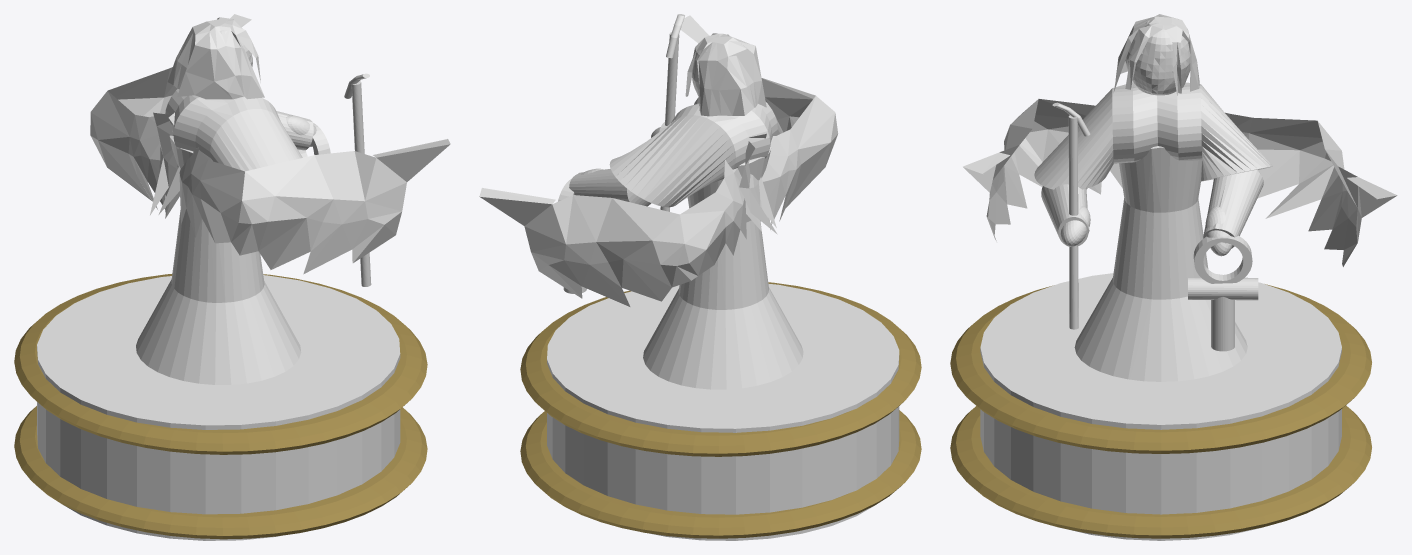
File: Isis.dae
3 views of the same model, side by side, from view 1: azimuth 30°, elevation 25°; view 2: azimuth 150°, elevation 25°; view 3: azimuth 270°, elevation 25° (orthographic). The views are drawn at different scales.
Parts seen in each view (by area): view 1: Cylinder, Grid.002, Cone.001, Torus.001, Torus, Grid.001, Cylinder.001, Grid, Cylinder.004, Cylinder.002; view 2: Cylinder, Grid.001, Cone.001, Torus.001, Torus, Cylinder.001, Grid.002, Grid, Cylinder.002, Cylinder.004; view 3: Cylinder, Cone.001, Torus.001, Torus, Cylinder.001, Grid.001, Grid.002, Cylinder.002, Sphere, Grid, Cylinder.004, Cylinder.003 (+3 smaller).
Boxes of the visible parts, box(x1,y1,x2,y2) form: Cylinder: box(37, 275, 400, 540); Grid.002: box(150, 112, 450, 274); Cone.001: box(136, 135, 301, 384); Torus.001: box(14, 274, 427, 454); Torus: box(14, 406, 427, 539); Grid.001: box(90, 14, 251, 214); Cylinder.001: box(165, 89, 302, 171); Grid: box(167, 17, 264, 99); Cylinder.004: box(344, 73, 371, 286); Cylinder.002: box(276, 111, 316, 150); Cylinder: box(547, 283, 899, 540); Grid.001: box(479, 133, 776, 306); Cone.001: box(643, 147, 803, 389); Torus.001: box(520, 282, 921, 456); Torus: box(520, 410, 921, 538); Cylinder.001: box(609, 97, 782, 207); Grid.002: box(673, 15, 838, 234); Grid: box(685, 33, 766, 116); Cylinder.002: box(569, 168, 651, 206); Cylinder.004: box(660, 14, 684, 211); Cylinder: box(980, 273, 1341, 540); Cone.001: box(1074, 146, 1247, 381); Torus.001: box(950, 284, 1371, 453); Torus: box(950, 405, 1371, 538); Cylinder.001: box(1034, 82, 1272, 189); Grid.001: box(1213, 112, 1397, 266); Grid.002: box(963, 99, 1122, 241); Cylinder.002: box(1203, 169, 1263, 256); Sphere: box(1125, 20, 1190, 95); Grid: box(1113, 14, 1199, 95); Cylinder.004: box(1052, 102, 1090, 329); Cylinder.003: box(1041, 184, 1090, 246).
Size of the model in its own units: 1.57 by 1.7 by 1.86.
